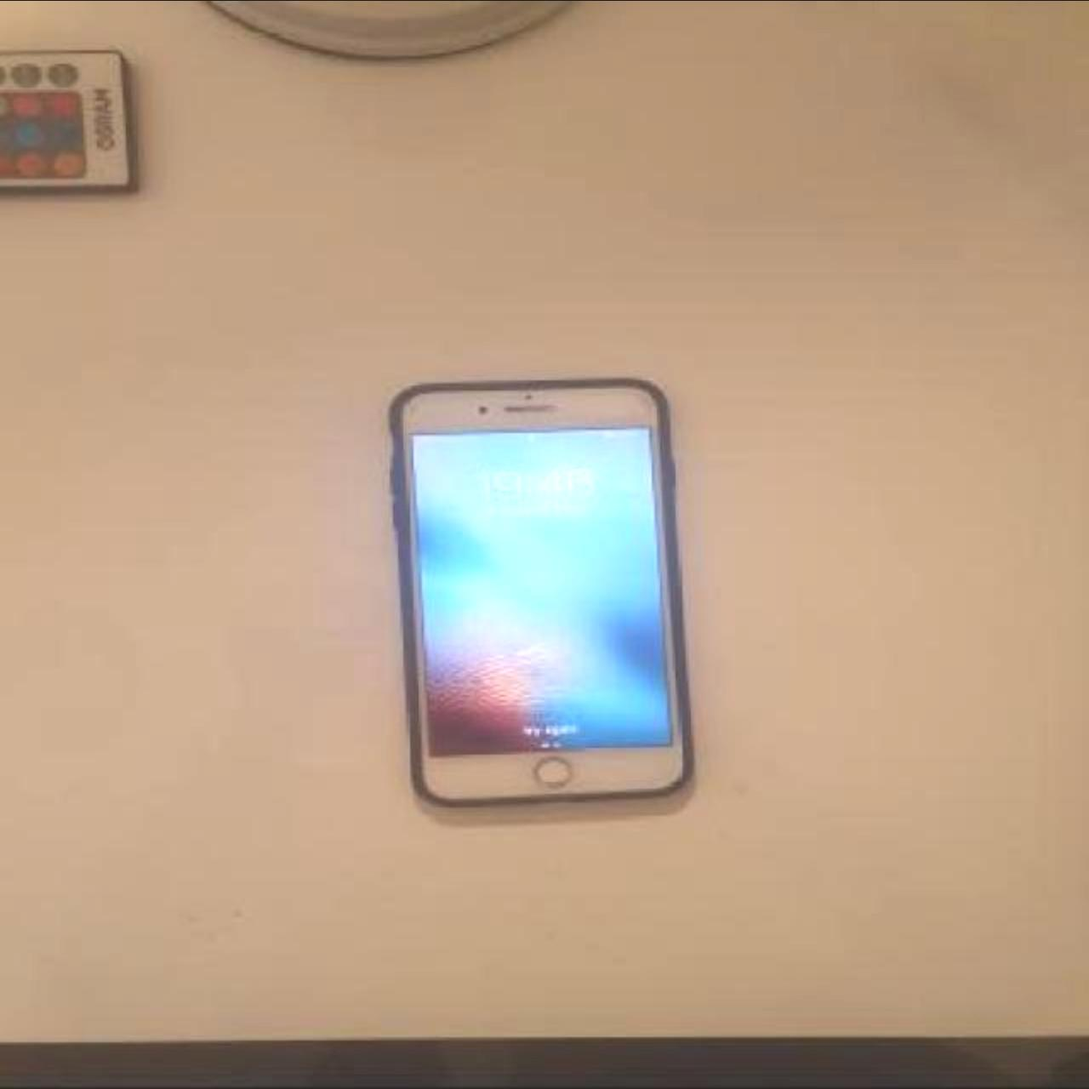phone: (395, 382, 691, 819)
